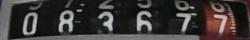digits: (207, 2, 235, 36), (175, 12, 197, 30), (57, 9, 74, 31), (22, 11, 38, 34), (135, 10, 152, 31), (97, 11, 113, 30)
